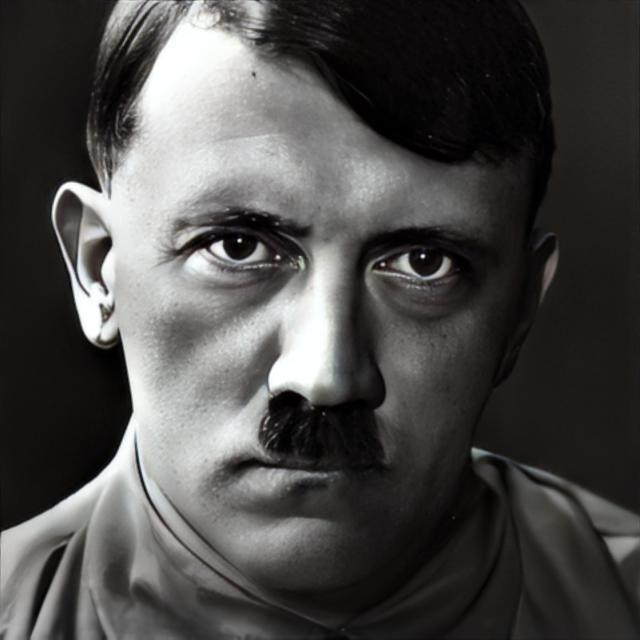anger: (110, 63, 518, 608)
